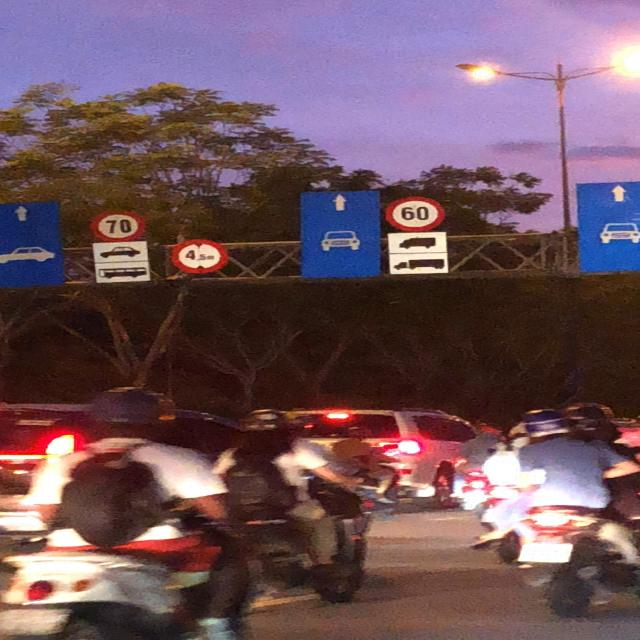Bien bao han che chieu cao: (159, 238, 234, 276)
Bien bao toc do toi da cho phep: (376, 194, 446, 233), (85, 207, 142, 243)
